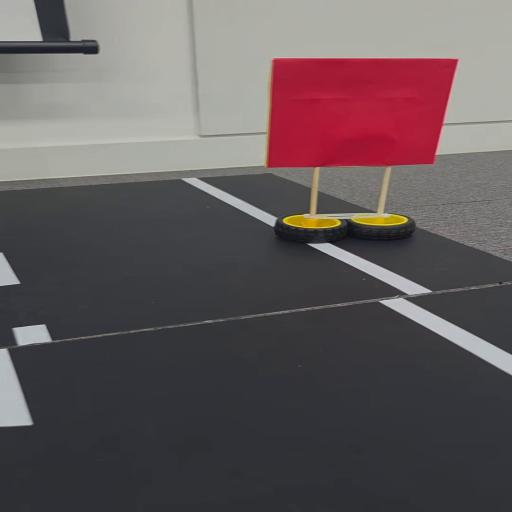Sign_A: (267, 53, 455, 249)
